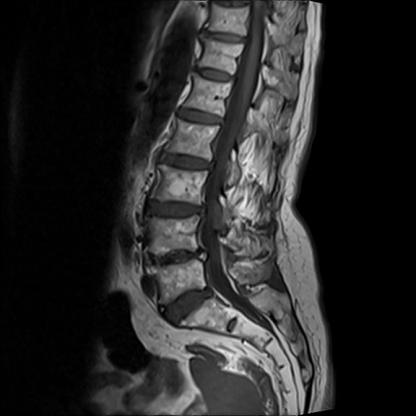Annular Tearrotation: (160, 289, 218, 321), (146, 242, 204, 271)
Disc Bulgerotation: (161, 289, 218, 321), (146, 242, 204, 271), (156, 150, 213, 175), (176, 108, 225, 129)
